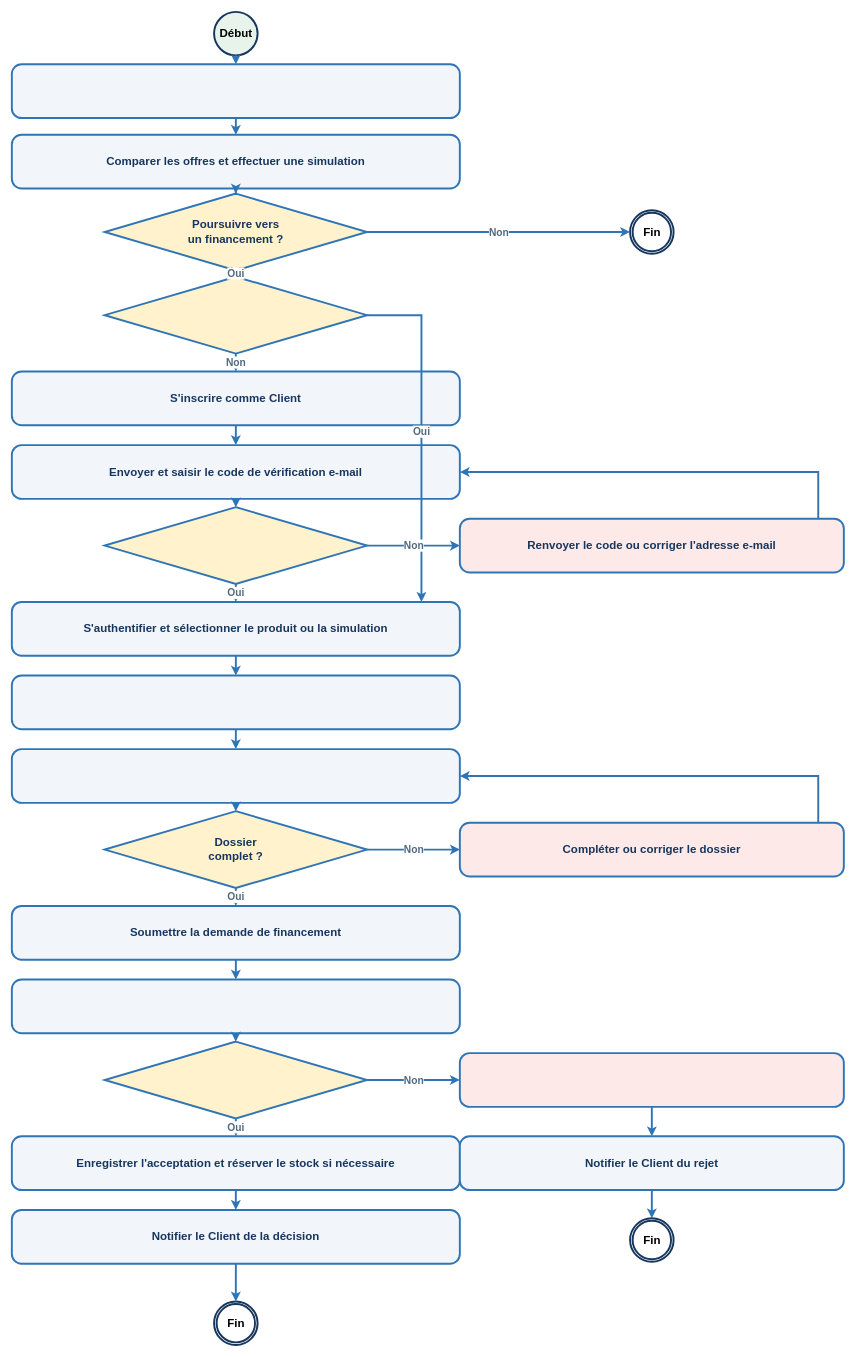
Image size: 856x1357. Some labels were removed from this diagram. The shapes that lost their labels are listed below. From the top down, each one's centre as x and y in pixels, then its label:
At [235,91]: "Consulter les produits de la marketplace".
At [235,315]: "Compte Client actif ?".
At [235,545]: "E-mail vérifié ?".
At [235,702]: "Créer le dossier de financement à l'état brouillon".
At [235,776]: "Renseigner les données et téléverser les justificatifs".
At [235,1006]: "L'Administrateur Banque examine la demande".
At [235,1079]: "Demande acceptée ?".
At [651,1080]: "Saisir le motif et enregistrer le rejet".
